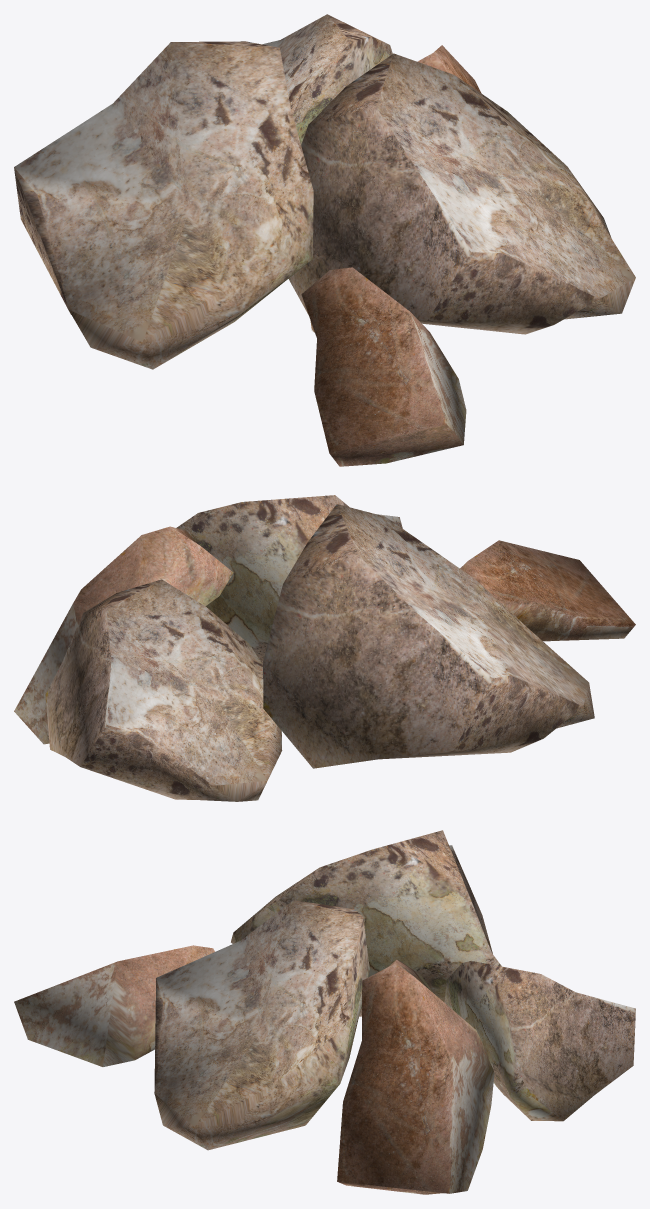
The model's file is RockPile.fbx.
3 views of the same model, one above another, from view 1: azimuth 30°, elevation 25°; view 2: azimuth 150°, elevation 25°; view 3: azimuth 270°, elevation 25° (orthographic). The views are drawn at different scales.
Parts seen in each view (by area): view 1: RockPile; view 2: RockPile; view 3: RockPile.
Boxes of the visible parts, x1,y1,x2,y2 form: RockPile: [14, 14, 635, 466]; RockPile: [14, 495, 635, 801]; RockPile: [14, 830, 635, 1194].
Bounding box in the file's own units: 13.32 × 6.76 × 15.86.
